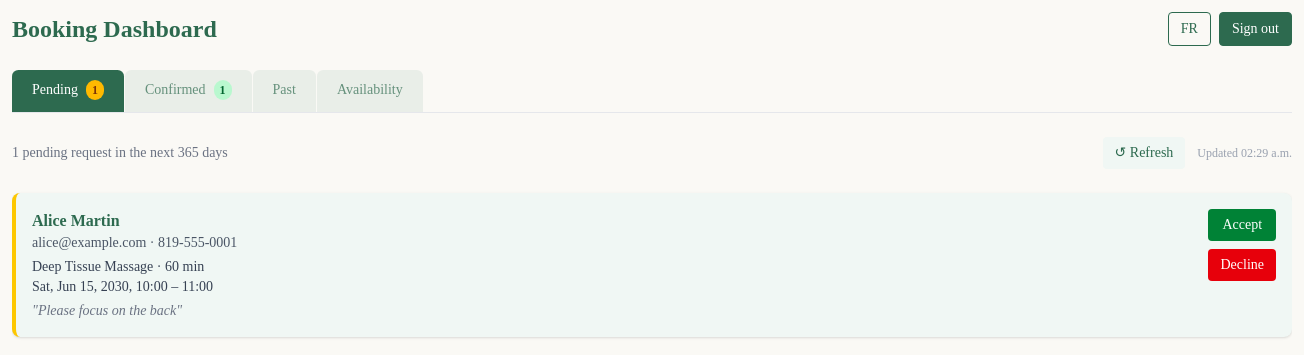
Test: AdminDashboard › Past tab is visible and has month/year selects
Step 1. Click the button with test id "tab-past" → (284, 91), box [252, 70, 316, 112]
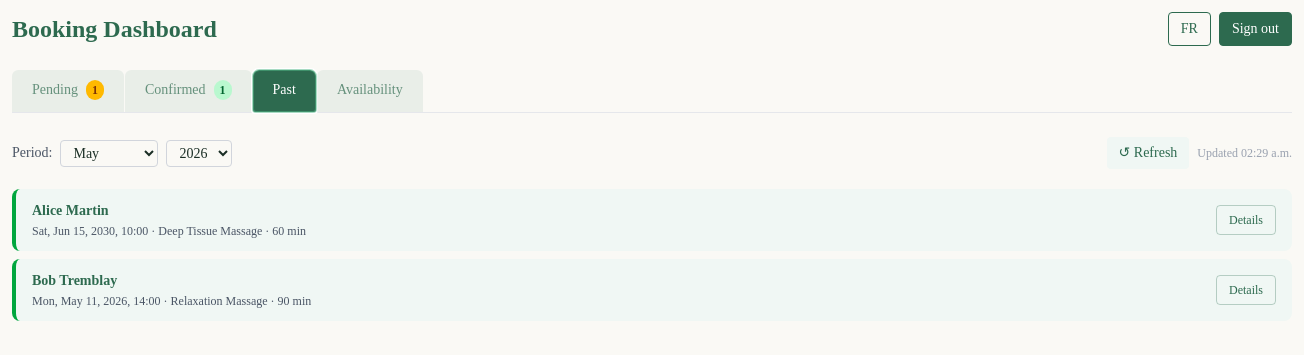
expect the text "Period:" is shown: met, box [12, 143, 52, 163]
